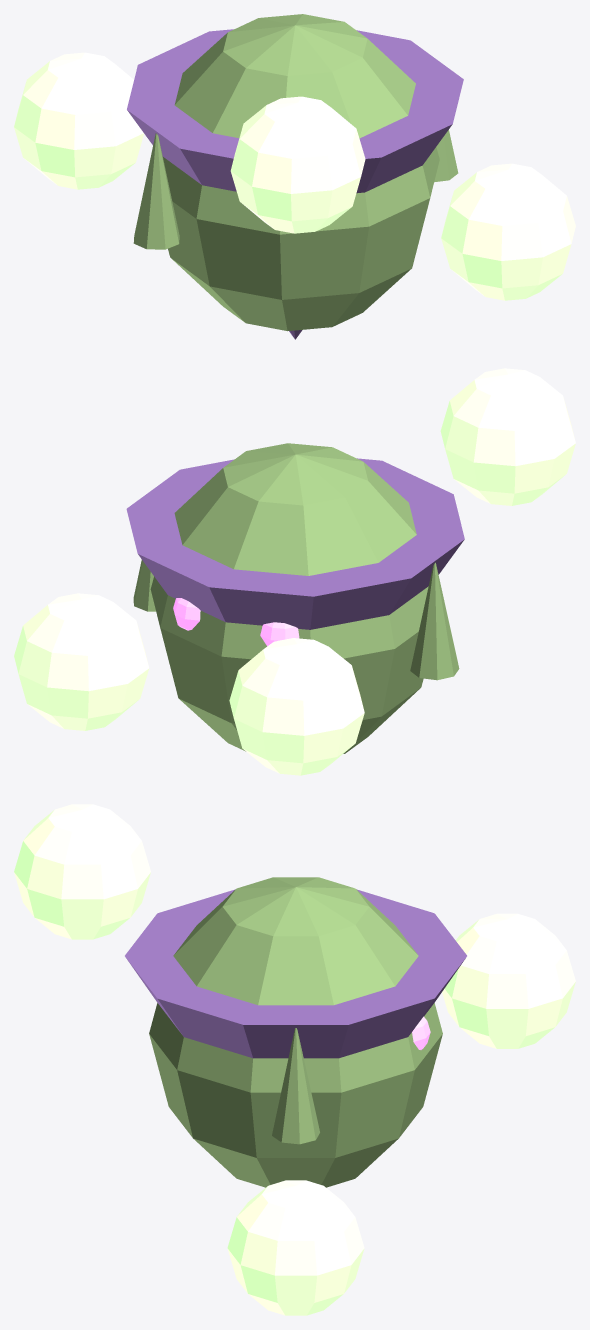
The model's file is goblin_curse.glb.
3 renders of one model, top to bottom at view 1: azimuth 30°, elevation 25°; view 2: azimuth 150°, elevation 25°; view 3: azimuth 270°, elevation 25°, orthographic.
Parts seen in each view (by area): view 1: goblin_curse; view 2: goblin_curse; view 3: goblin_curse.
Boxes of the visible parts, left/top/right/bottom form: goblin_curse: left=14, top=14, right=575, bottom=339; goblin_curse: left=14, top=368, right=575, bottom=775; goblin_curse: left=14, top=804, right=575, bottom=1315.
Bounding box in the file's own units: 2.04 × 1.56 × 2.29.
